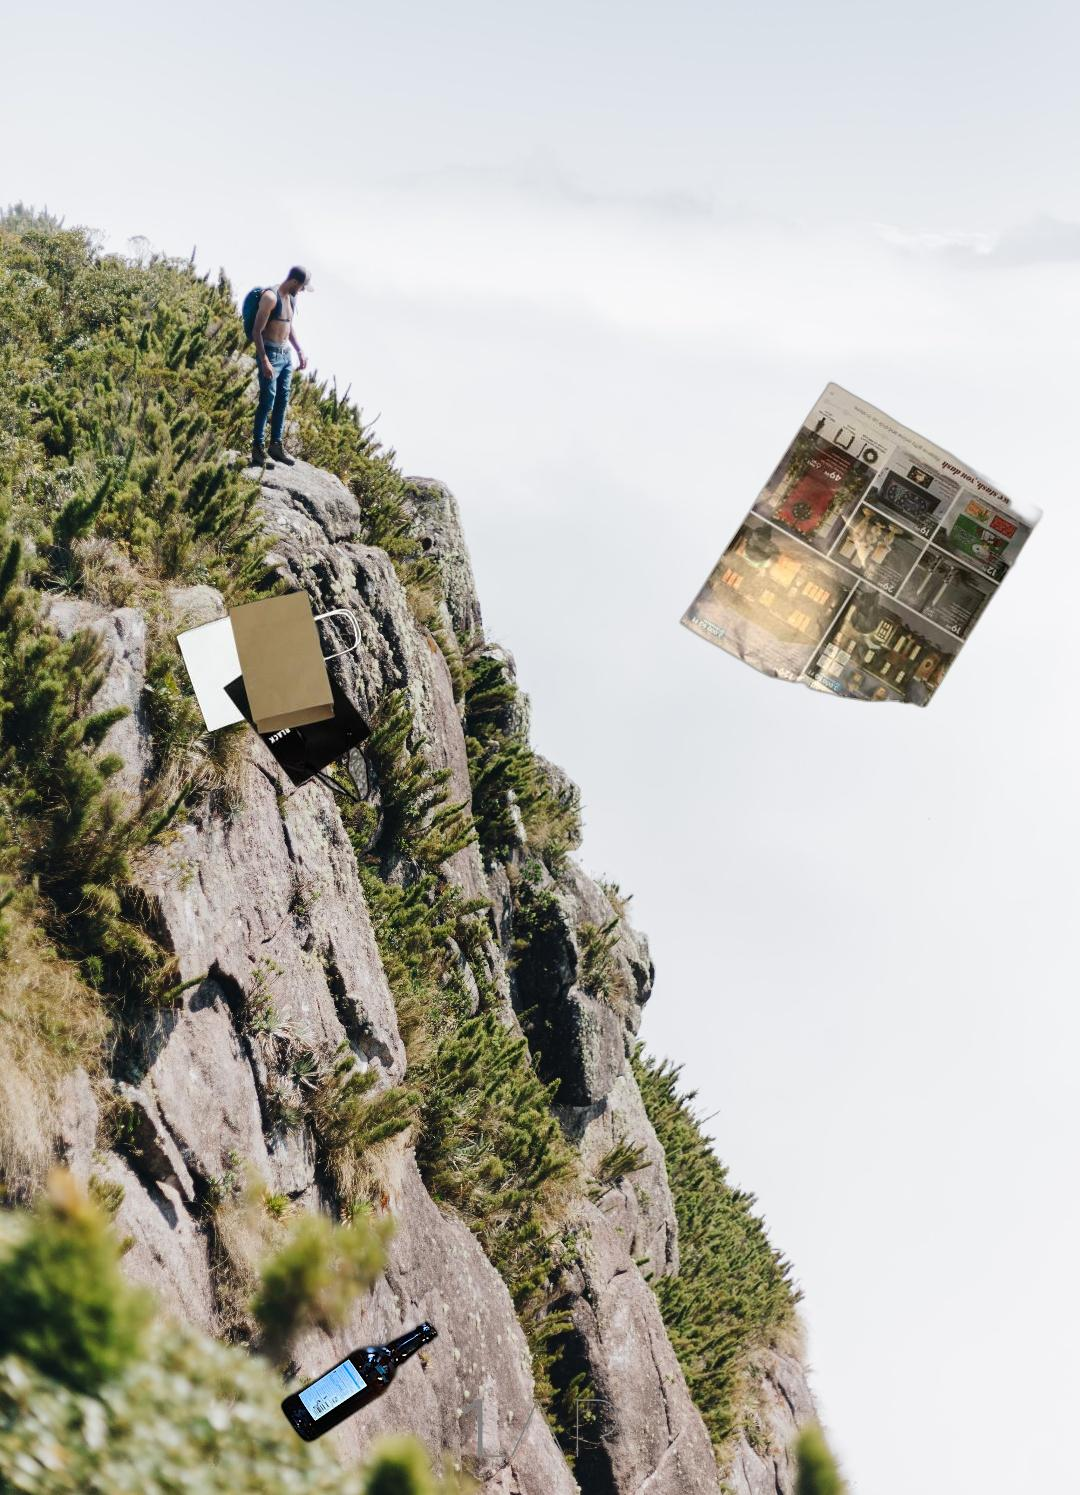glass: (276, 1316, 442, 1449)
paper: (676, 380, 1046, 712)
paper-bag: (174, 586, 375, 806)
